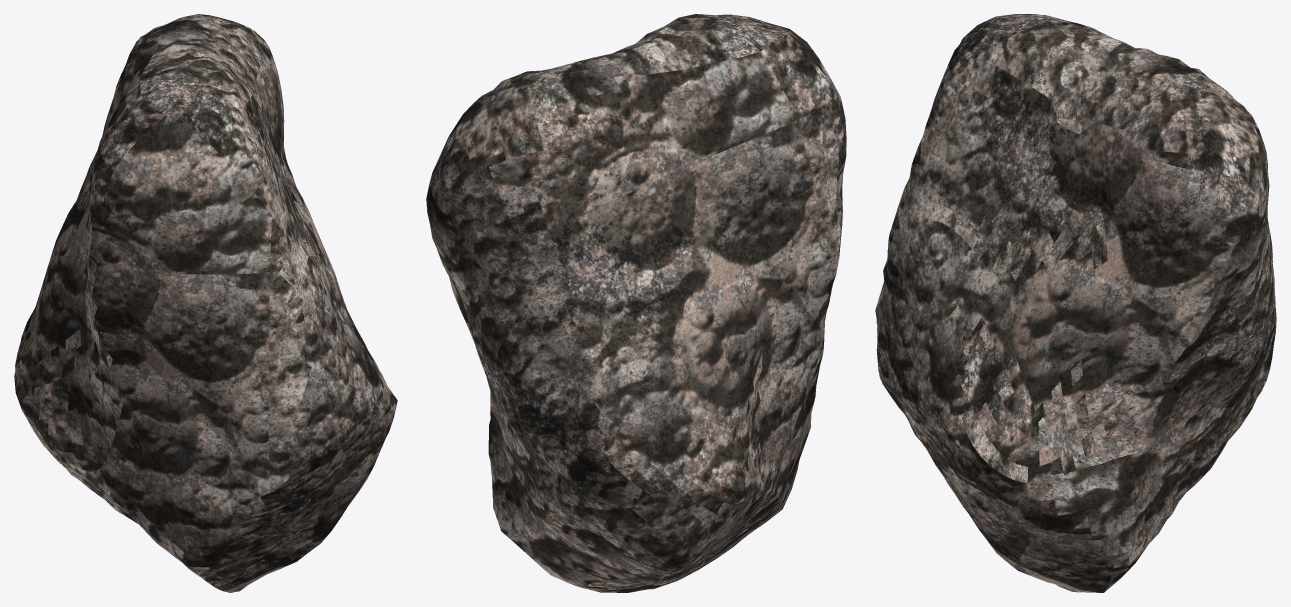
The model's file is asteroid4.glb.
The picture shows the model from 3 angles, left to right: view 1: azimuth 30°, elevation 25°; view 2: azimuth 150°, elevation 25°; view 3: azimuth 270°, elevation 25°; orthographic projection. The views are drawn at different scales.
Visible parts, largest first — view 1: rock; view 2: rock; view 3: rock.
Part boxes in pixels (left/top/right/bottom): rock: left=14, top=14, right=397, bottom=592; rock: left=426, top=14, right=846, bottom=592; rock: left=875, top=14, right=1276, bottom=592.
Bounding box in the file's own units: 0.7045 × 1.21 × 0.8321.
1 material, 1 textured.
